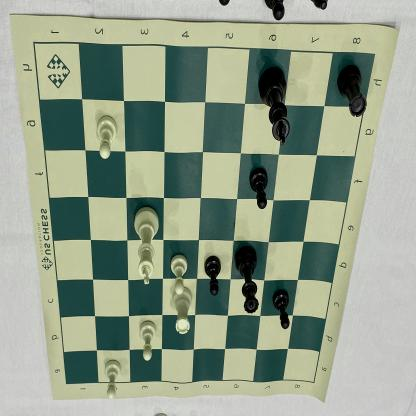black-king: (257, 62, 290, 148)
black-pawn: (248, 165, 270, 212), (204, 254, 223, 298), (272, 288, 290, 332)
black-queen: (234, 243, 260, 319)
black-rook: (336, 61, 368, 119)
white-king: (131, 203, 162, 287)
white-pawn: (94, 112, 118, 160), (166, 252, 188, 298), (136, 319, 158, 364), (101, 357, 123, 401)
white-rook: (170, 284, 194, 337)
